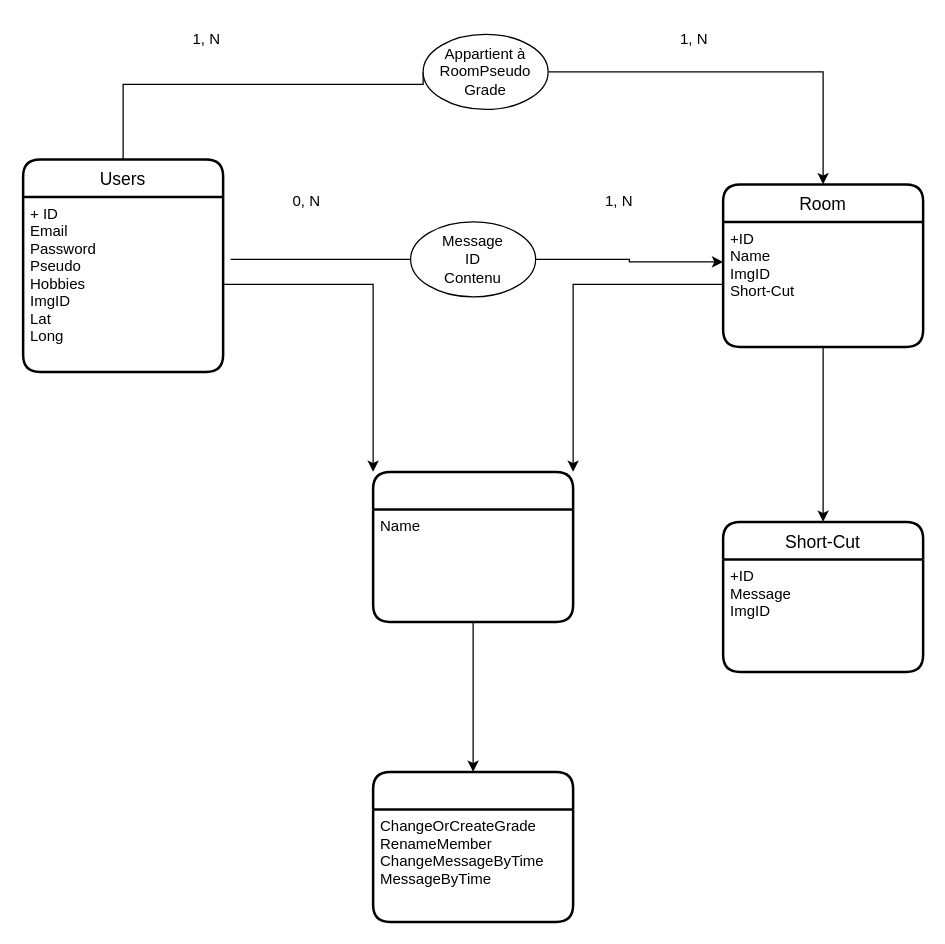
The diagram is 945 pixels wide and 944 high, and some of its shapes have lost their labels. The box of each missing label's shape, as (x1, y1, x2, y2) in pixels:
Grade: (371, 470, 574, 622)
Rules: (371, 770, 574, 922)
